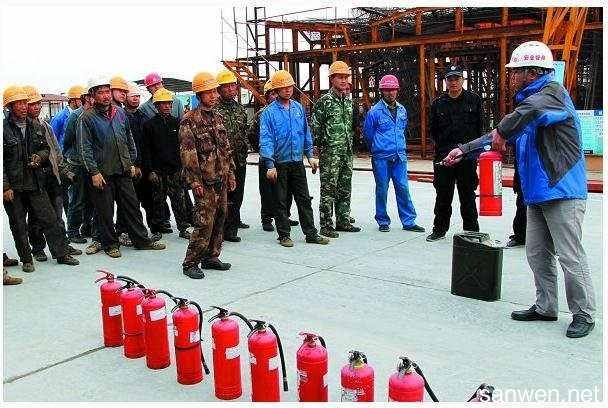none: (441, 63, 464, 95)
red: (377, 71, 401, 104), (144, 70, 164, 93)
white: (503, 38, 556, 95), (125, 80, 141, 110)
yellow: (190, 70, 219, 105), (3, 83, 28, 123), (269, 65, 295, 103), (20, 83, 43, 118), (327, 59, 349, 94), (214, 69, 237, 101), (152, 86, 174, 118), (108, 74, 128, 105), (64, 82, 85, 109)
